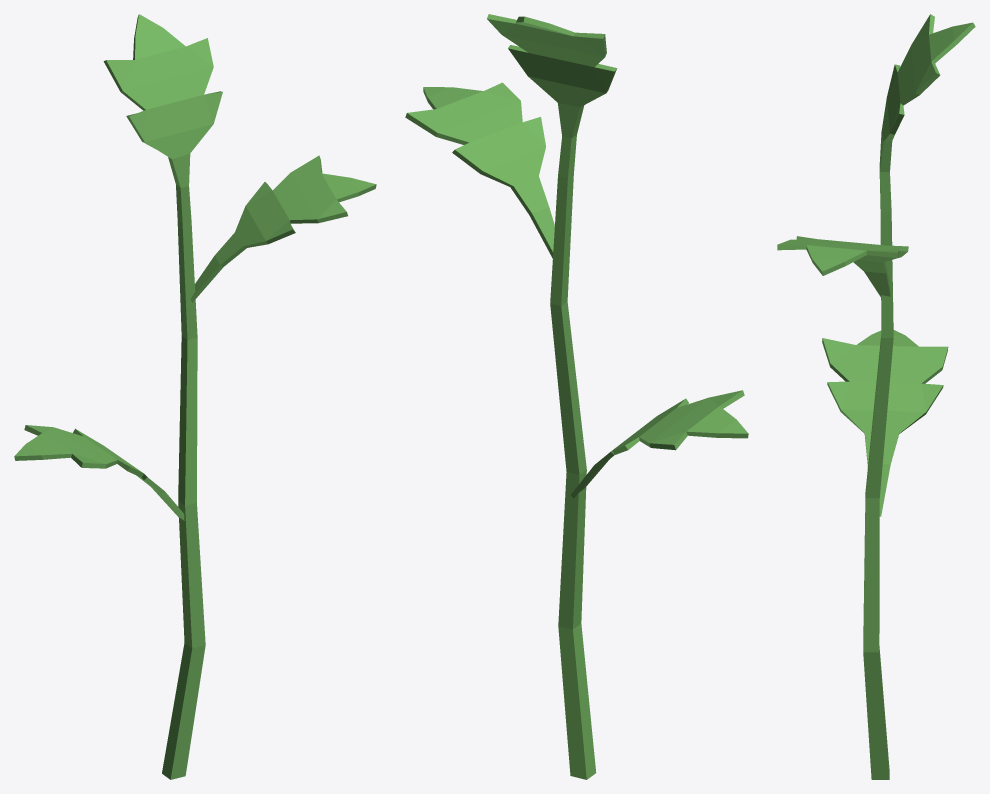
File: Haricot_2-optimized.glb
The picture shows the model from 3 angles, left to right: view 1: azimuth 30°, elevation 25°; view 2: azimuth 150°, elevation 25°; view 3: azimuth 270°, elevation 25°; orthographic projection. The views are drawn at different scales.
Parts seen in each view (by area): view 1: Tomato_2; view 2: Tomato_2; view 3: Tomato_2.
Part boxes in pixels (x1=…): Tomato_2: x1=14, y1=14, x2=376, y2=779; Tomato_2: x1=405, y1=14, x2=748, y2=779; Tomato_2: x1=777, y1=14, x2=975, y2=779.
Bounding box in the file's own units: 0.3768 × 0.7908 × 0.1874.
